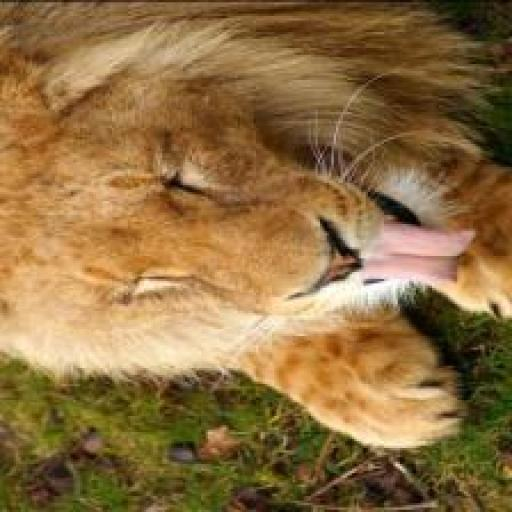lion: (4, 12, 511, 449)
